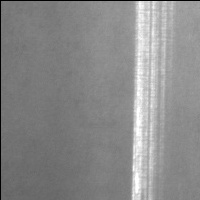scratches: (133, 2, 167, 200)
